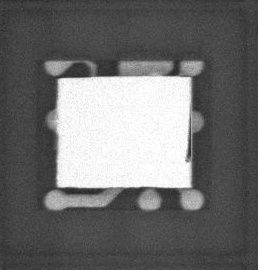DIE_BROKEN: (185, 113, 194, 165)
